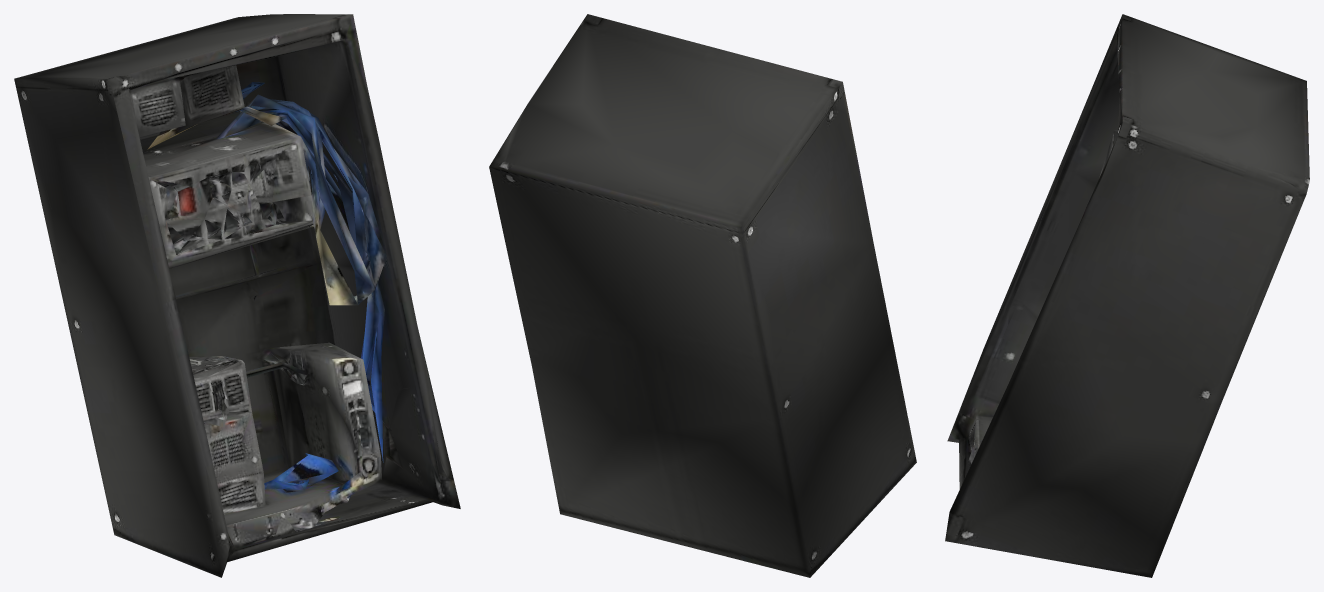
The model's file is server_rack_tipped.glb.
The picture shows the model from 3 angles, left to right: view 1: azimuth 30°, elevation 25°; view 2: azimuth 150°, elevation 25°; view 3: azimuth 270°, elevation 25°; orthographic projection. The views are drawn at different scales.
Parts seen in each view (by area): view 1: Model; view 2: Model; view 3: Model.
Part boxes in pixels (x1=…): Model: x1=14, y1=14, x2=460, y2=577; Model: x1=489, y1=14, x2=916, y2=577; Model: x1=945, y1=14, x2=1309, y2=577.
Size of the model in its own units: 1.14 by 2 by 1.46.
1 material, 1 textured.
